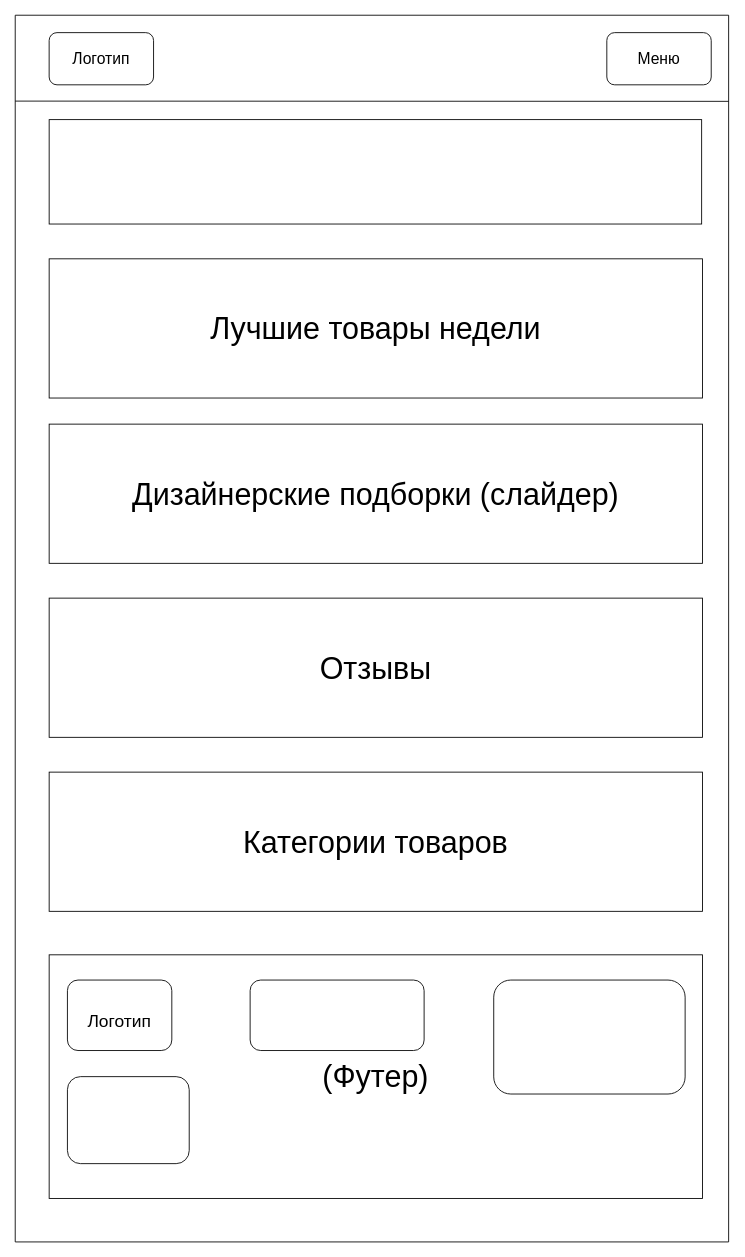
The diagram is 745 pixels wide and 1257 high, and some of its shapes have lost their labels. Here are the shapes that lost their labels. From the top down, the centre of each, then its label:
At pixel 375 171: "Название и миссия".
At pixel 336 1015: "Полезные ссылки".
At pixel 589 1036: "Оставьте свой отзыв".
At pixel 128 1120: "Карта".
